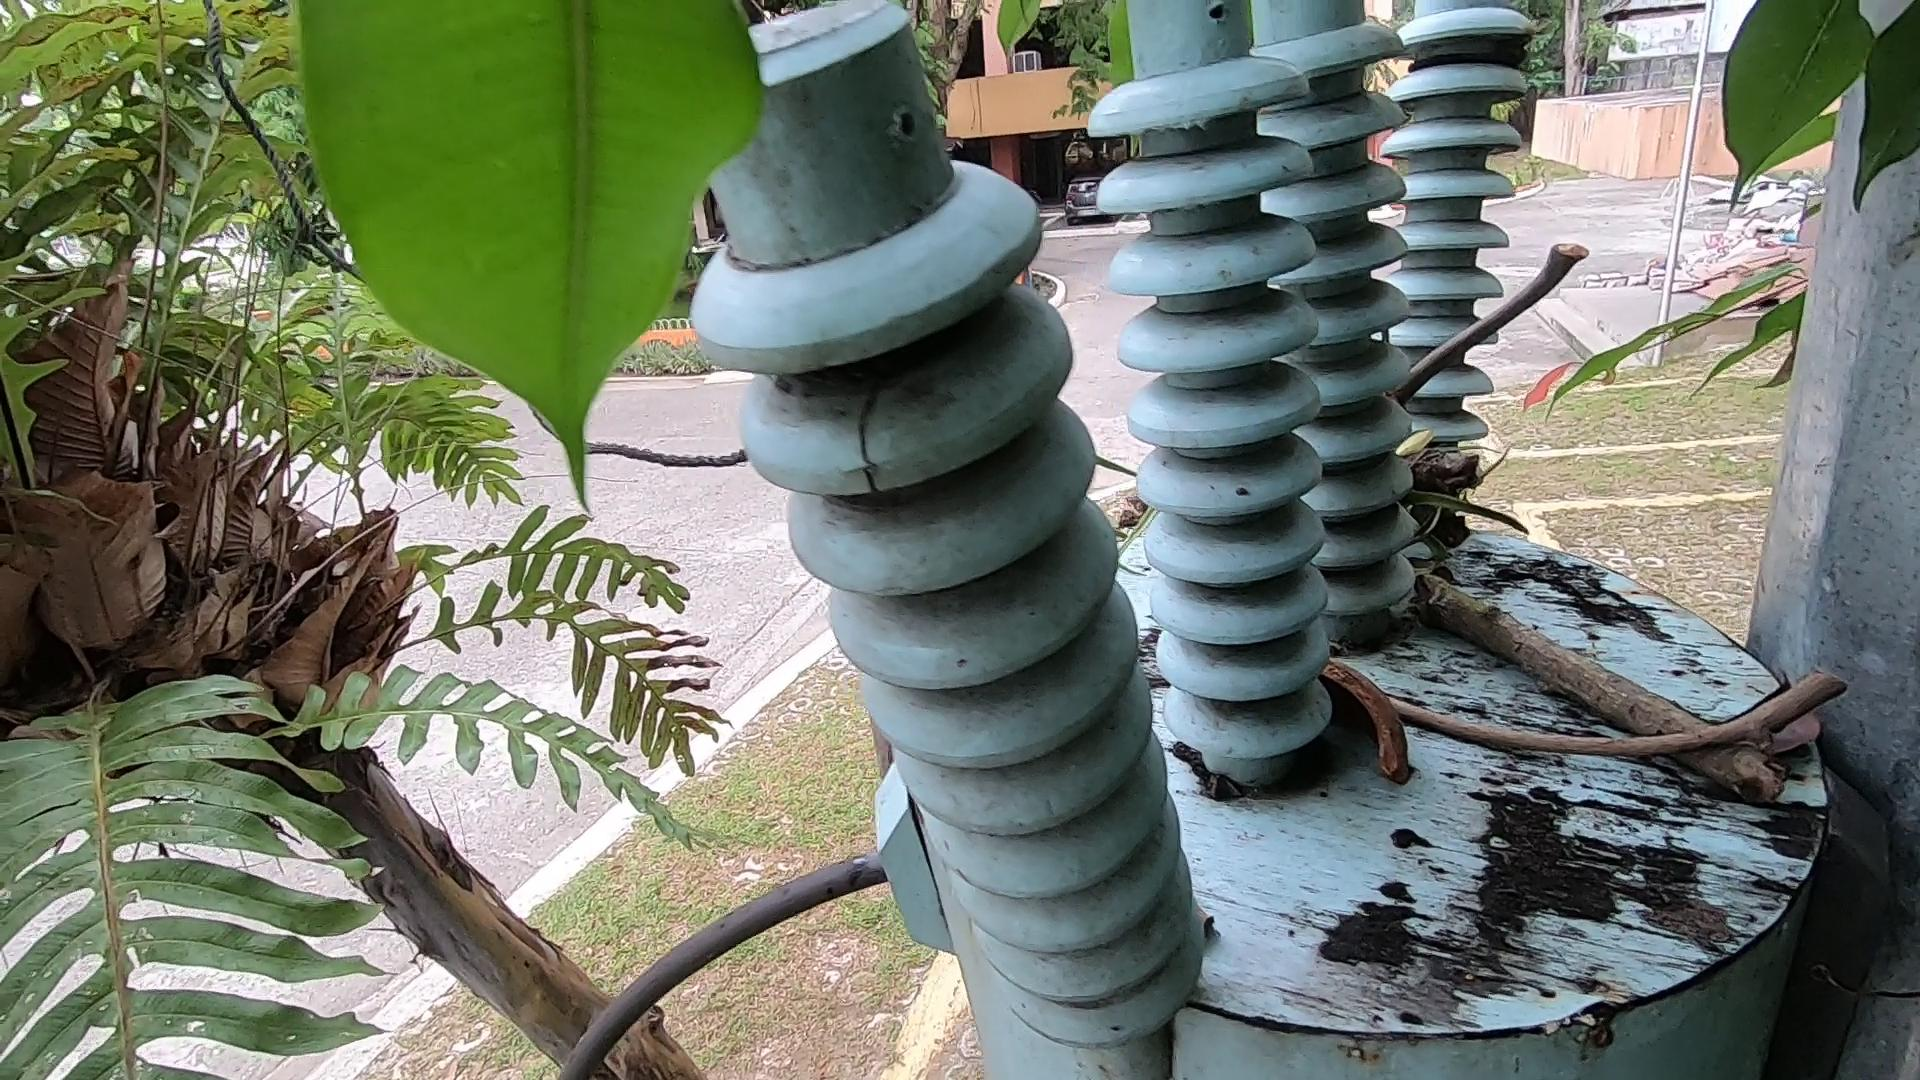branch with leaves: (1366, 469, 1869, 832)
leaf: (1726, 638, 1853, 840), (1162, 825, 1291, 996)
mahogany fruit: (1303, 636, 1420, 819)
tree branch: (1341, 647, 1851, 793), (1364, 222, 1636, 477)
